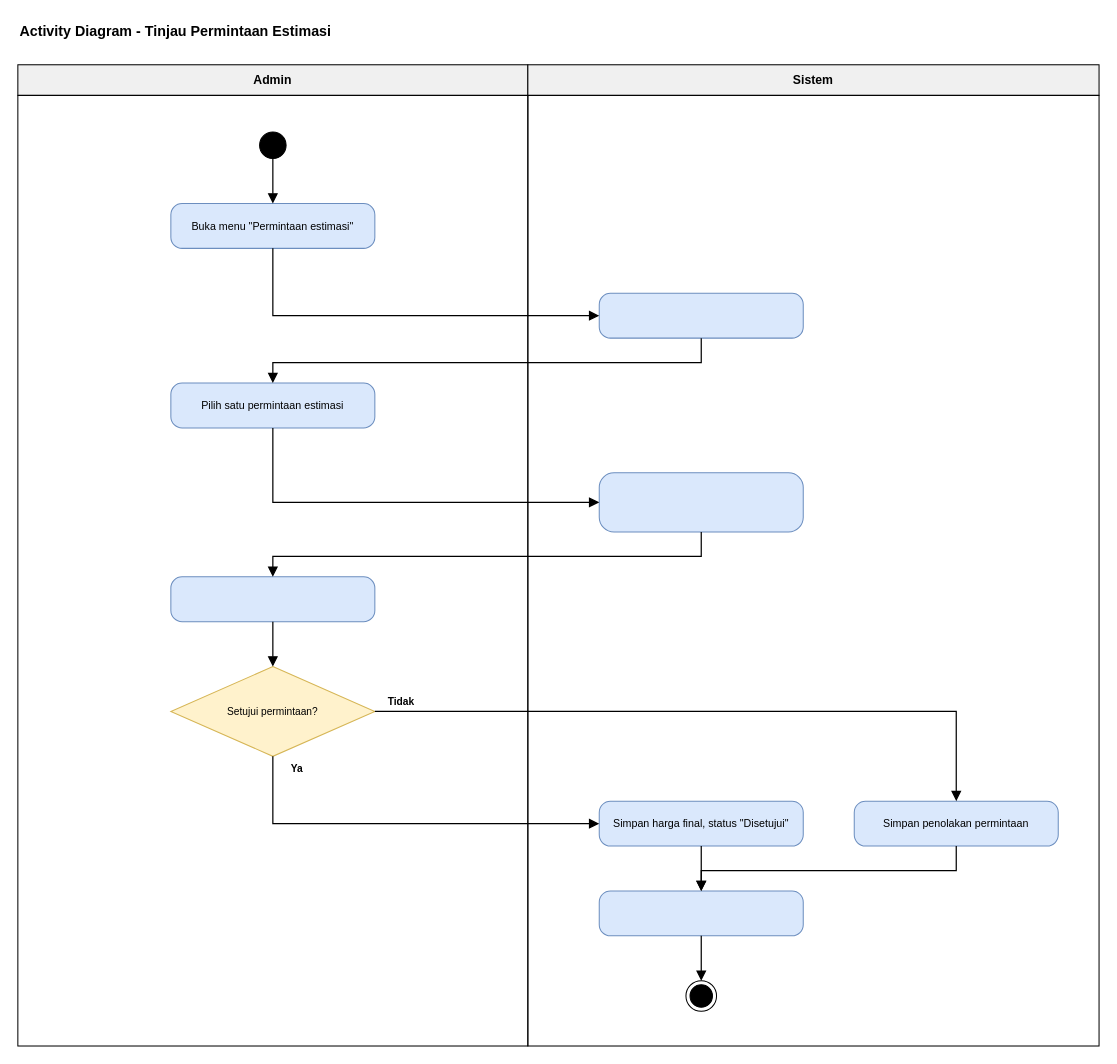
Image size: 1117x1064. Some labels were removed from this diagram. Here are the shapes that lost their labels. From the top down, the centre of each, then its label:
At point 700,315: "Tampilkan daftar permintaan estimasi beserta statusnya".
At point 700,502: "Tampilkan detail permintaan (spesifikasi, kondisi, foto, estimasi awal)".
At point 272,599: "Verifikasi kondisi perangkat dan tetapkan harga final".
At point 700,913: "Perbarui daftar permintaan dan lencana jumlah menunggu".
